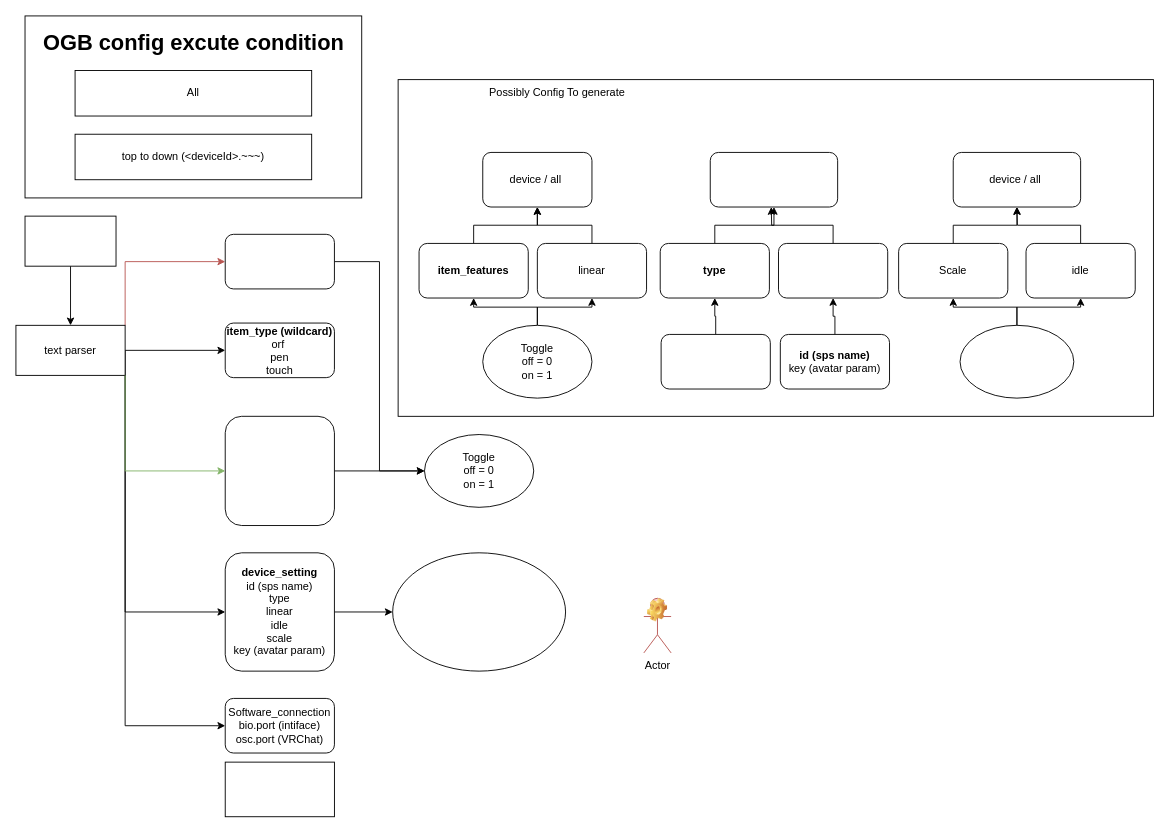
Some shapes in this 1169 by 833 pixel diagram are drawn without their labels. The shapes that lost their labels are listed below. From the top down, each one's centre as x and y in pixels, then its label:
At [773,179]: "device / all (link device to specifc)".
At [70,240]: "Intiface Status".
At [279,261]: "device (lovenseXXXX) all (global)".
At [833,270]: "id / key".
At [715,361]: "item_type(wildcard) orf pen touch".
At [1016,361]: "Float 0~1".
At [279,470]: "item_features touchOthers penOthers frotOthers touchSelf penSelf".
At [479,611]: "Float 0~1 make slider can switch to nonstep / step (0.1)".
At [279,789]: "??? maxLevelParam".
